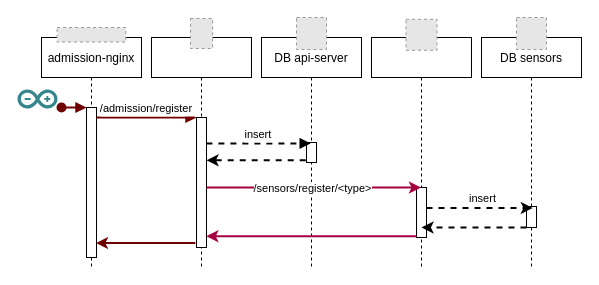
The diagram is 599 pixels wide and 285 high, and some of its shapes have lost their labels. Grey dashed boxes stand in for pictures. Here are the shapes that lost their labels. From the top down, the centre of each, then its label:
point (201, 152): admission
point (421, 152): register
